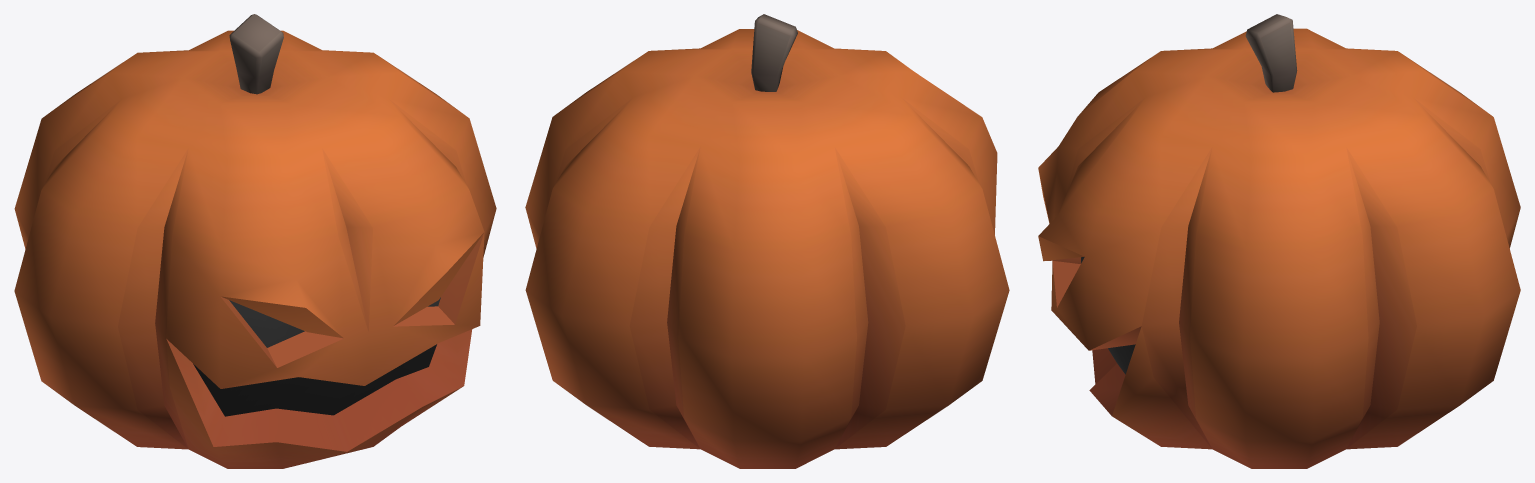
File: pumpkin_orange_jackolantern.glb
3 views of the same model, side by side, from view 1: azimuth 30°, elevation 25°; view 2: azimuth 150°, elevation 25°; view 3: azimuth 270°, elevation 25° (orthographic).
Visible parts, largest first — view 1: pumpkin_orange_jackolantern; view 2: pumpkin_orange_jackolantern; view 3: pumpkin_orange_jackolantern.
Boxes of the visible parts, x1=… form: pumpkin_orange_jackolantern: x1=14, y1=14, x2=496, y2=468; pumpkin_orange_jackolantern: x1=525, y1=14, x2=1009, y2=468; pumpkin_orange_jackolantern: x1=1038, y1=14, x2=1520, y2=468.
Bounding box in the file's own units: 1.5 × 1.3 × 1.4.
1 material, 1 textured.
